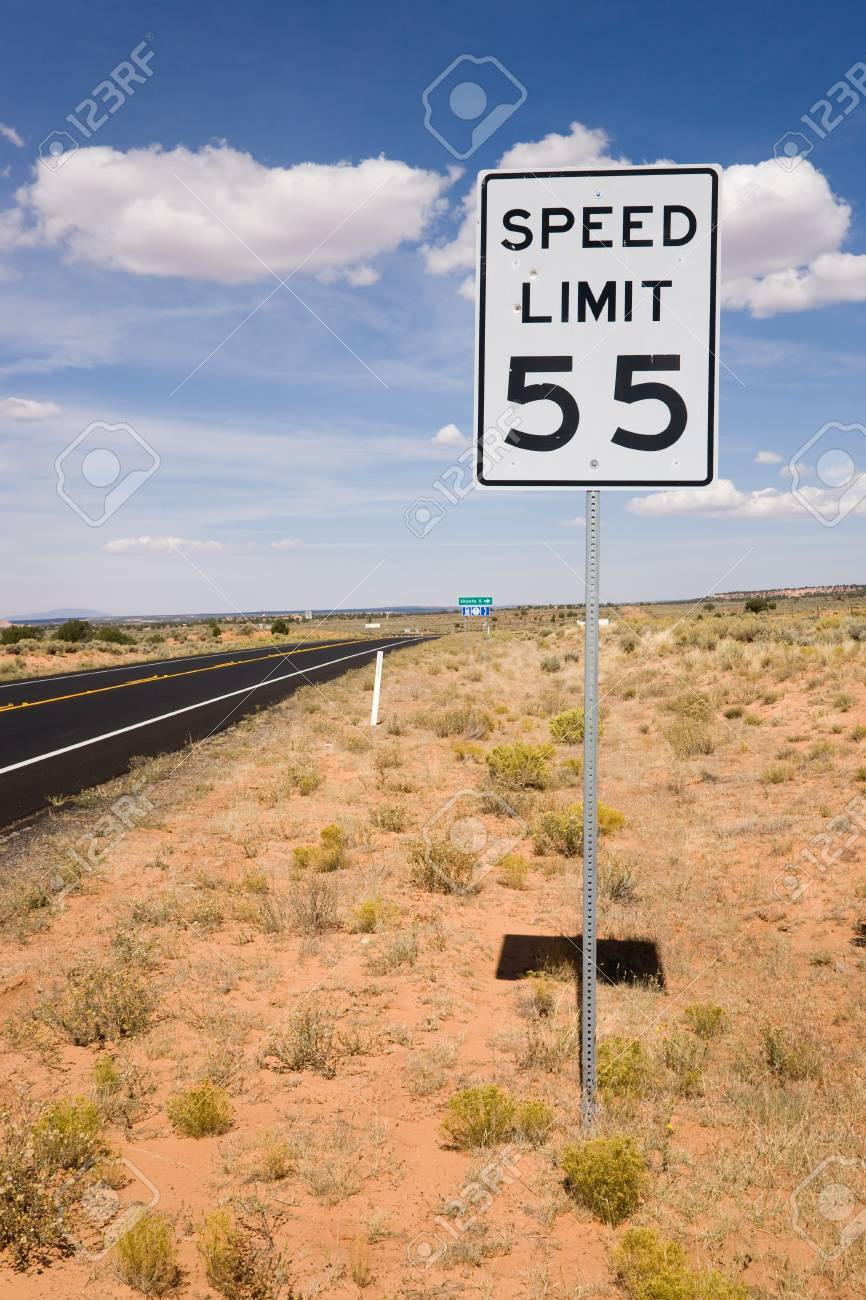speed limit: (460, 150, 734, 504)
